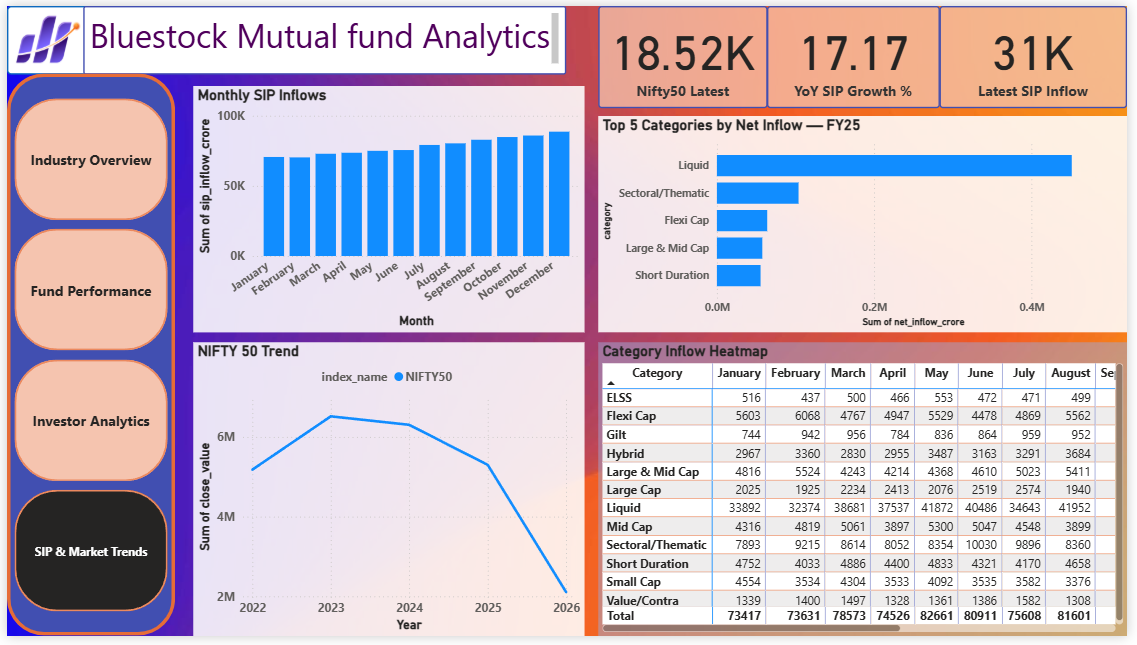

The page's visual inventory and layout, read from the dashboard file:
{"tool":"powerbi","page":{"name":"SIP & Market Trends","canvas":[1280,720],"ordinal":3},"visuals":[{"type":"clusteredColumnChart","title":"Monthly SIP Inflows","fields":{"Category":["fact_sip.month.Variation.Date Hierarchy.Month"],"Y":["Sum(fact_sip.sip_inflow_crore)"]},"box":[212.7,91.9,447.3,281.3],"z":0},{"type":"pivotTable","title":"Category Inflow Heatmap","fields":{"Rows":["fact_category.category"],"Values":["Sum(fact_category.net_inflow_crore)"],"Columns":["fact_category.month.Variation.Date Hierarchy.Month"]},"box":[675.1,384.2,605.1,336.2],"z":1000},{"type":"clusteredBarChart","title":"Top 5 Categories by Net Inflow — FY25","fields":{"Category":["fact_category.category"],"Y":["Sum(fact_category.net_inflow_crore)"]},"box":[675.1,126.2,605.1,247],"z":2000},{"type":"lineChart","title":"NIFTY 50 Trend","fields":{"Category":["fact_benchmark.date.Variation.Date Hierarchy.Year","fact_benchmark.date.Variation.Date Hierarchy.Quarter","fact_benchmark.date.Variation.Date Hierarchy.Month","fact_benchmark.date.Variation.Date Hierarchy.Day"],"Y":["Sum(fact_benchmark.close_value)"],"Series":["fact_benchmark.index_name"]},"box":[212.7,384.2,447.3,336.2],"z":3000},{"type":"card","fields":{"Values":["_Measures.Latest SIP Inflow"]},"box":[1066.2,0,214.1,116.6],"z":4000},{"type":"card","fields":{"Values":["_Measures.YoY SIP Growth %"]},"box":[868.6,0,197.6,116.6],"z":5000},{"type":"card","fields":{"Values":["_Measures.Nifty50 Latest"]},"box":[675.1,0,193.5,116.6],"z":6000},{"type":"image","box":[0,0,93.3,78.2],"z":7000},{"type":"textbox","box":[87.8,0,551.6,78.2],"z":8000},{"type":"shape","box":[0,77.8,192.1,642.2],"z":9000},{"type":"pageNavigator","box":[8.2,105.7,175.6,587.3],"z":10000}]}

Visuals, with their boxes in screenshot pixels (x1, y1, x2, y2), scaled from the page's 1280x720 canvas onto the 1137x645 screenshot:
"Monthly SIP Inflows" clusteredColumnChart: <region>189, 82, 586, 334</region>
"Category Inflow Heatmap" pivotTable: <region>600, 344, 1136, 644</region>
"Top 5 Categories by Net Inflow — FY25" clusteredBarChart: <region>600, 113, 1136, 334</region>
"NIFTY 50 Trend" lineChart: <region>189, 344, 586, 644</region>
card - _Measures.Latest SIP Inflow: <region>947, 0, 1136, 104</region>
card - _Measures.YoY SIP Growth %: <region>772, 0, 947, 104</region>
card - _Measures.Nifty50 Latest: <region>600, 0, 772, 104</region>
image: <region>0, 0, 83, 70</region>
textbox: <region>78, 0, 568, 70</region>
shape: <region>0, 70, 171, 644</region>
pageNavigator: <region>7, 95, 163, 621</region>
